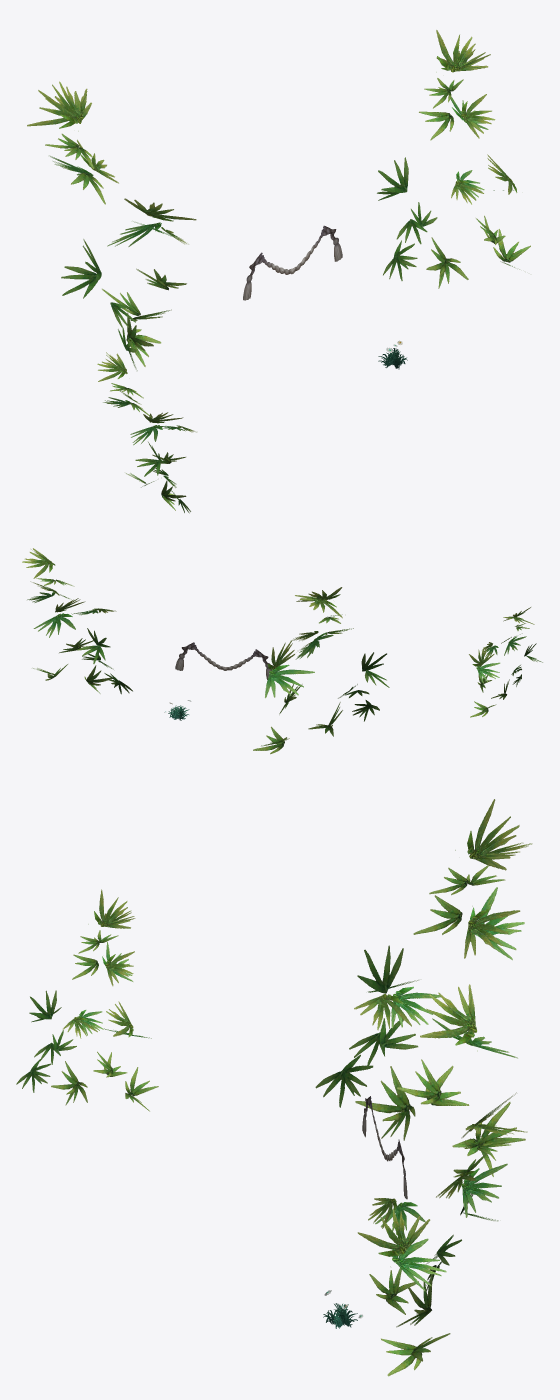
File: Area_02_13.fbx
The picture shows the model from 3 angles, top to bottom: view 1: azimuth 30°, elevation 25°; view 2: azimuth 150°, elevation 25°; view 3: azimuth 270°, elevation 25°; orthographic projection. The views are drawn at different scales.
Parts seen in each view (by area): view 1: Area_02_13; view 2: Area_02_13; view 3: Area_02_13.
Boxes of the visible parts, box(x1,y1,x2,y2) form: Area_02_13: box(27, 30, 530, 513); Area_02_13: box(22, 548, 542, 754); Area_02_13: box(16, 799, 532, 1376).
Size of the model in its own units: 3267 by 1690 by 2196.
